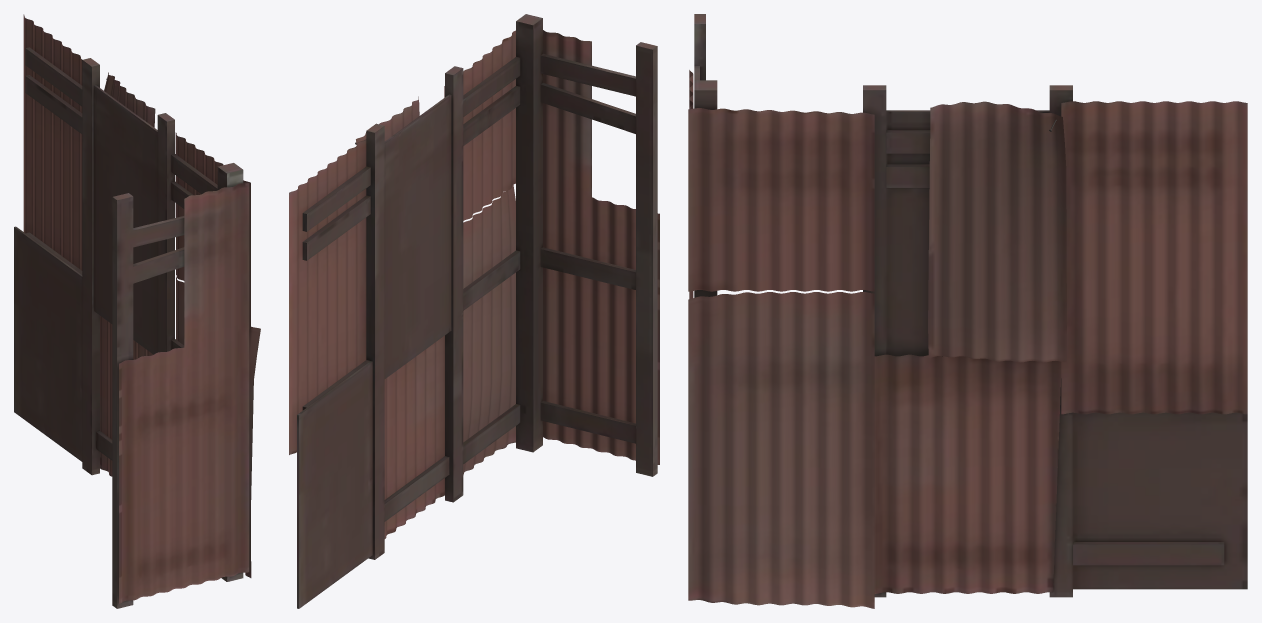
3 renders of one model, left to right at view 1: azimuth 30°, elevation 25°; view 2: azimuth 150°, elevation 25°; view 3: azimuth 270°, elevation 25°, orthographic. The views are drawn at different scales.
Visible parts, largest first — view 1: body0_model0_lod0_mesh0; view 2: body0_model0_lod0_mesh0; view 3: body0_model0_lod0_mesh0.
Boxes of the visible parts, x1=… form: body0_model0_lod0_mesh0: x1=14, y1=14, x2=260, y2=608; body0_model0_lod0_mesh0: x1=289, y1=14, x2=659, y2=608; body0_model0_lod0_mesh0: x1=688, y1=14, x2=1247, y2=608.
Size of the model in its own units: 71.61 by 192 by 192.
Materials: 1 (1 with a texture image).
